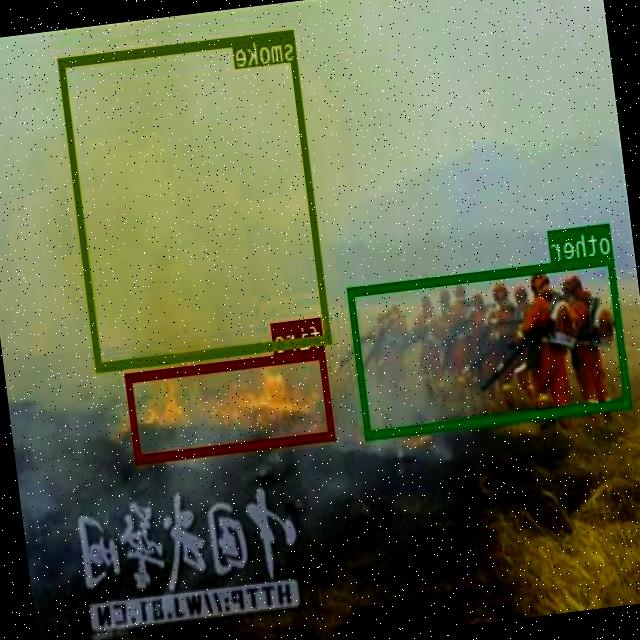fire: (127, 348, 336, 462)
smoke: (59, 28, 332, 370)
